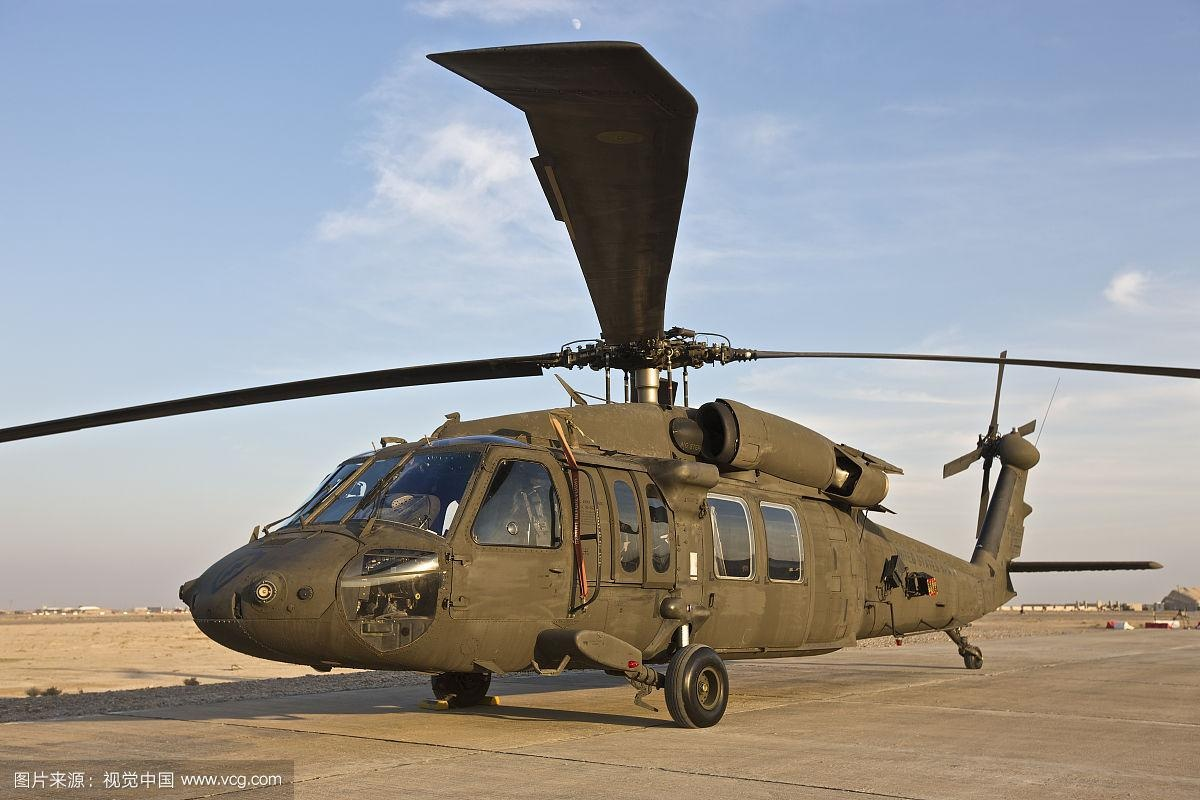airplane: (137, 36, 1143, 729)
